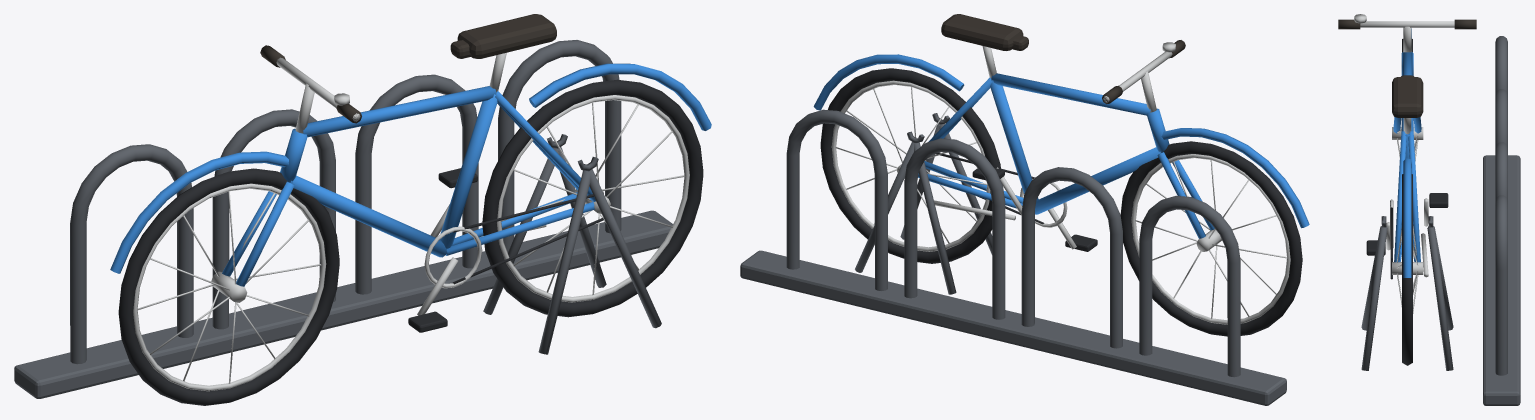
The model's file is bikeRack.glb.
3 views of the same model, side by side, from view 1: azimuth 30°, elevation 25°; view 2: azimuth 150°, elevation 25°; view 3: azimuth 270°, elevation 25° (orthographic). The views are drawn at different scales.
Parts seen in each view (by area): view 1: rack, bike, wheel_rear; view 2: rack, bike, wheel_rear; view 3: rack, bike, wheel_rear.
Boxes of the visible parts, left/top/right/bottom form: rack: left=14, top=40, right=672, bottom=398; bike: left=110, top=14, right=711, bottom=405; wheel_rear: left=482, top=79, right=703, bottom=317; rack: left=740, top=109, right=1286, bottom=405; bike: left=813, top=14, right=1309, bottom=336; wheel_rear: left=820, top=68, right=1000, bottom=263; rack: left=1361, top=36, right=1520, bottom=405; bike: left=1338, top=14, right=1476, bottom=279; wheel_rear: left=1392, top=174, right=1423, bottom=365.
Bounding box in the file's own units: 1.8 × 0.832 × 0.58.
